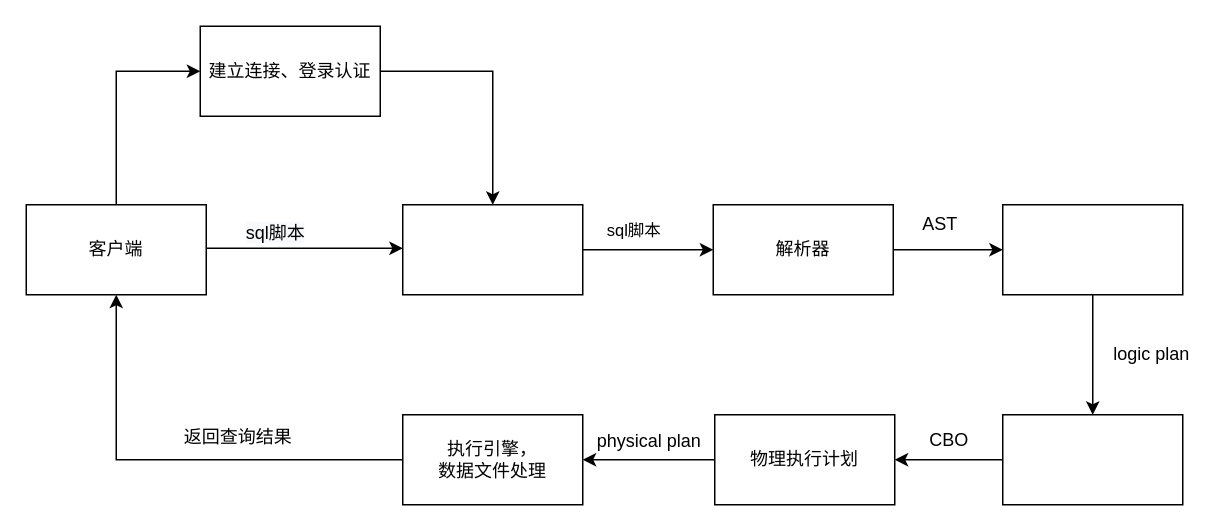
Image size: 1230x531. Some labels were removed from this diagram. Each missing label, with the box of its shape:
服务端网络协议层: (401, 203, 583, 295)
查询优化器: (1001, 413, 1183, 505)
逻辑执行计划: (1001, 203, 1183, 295)
